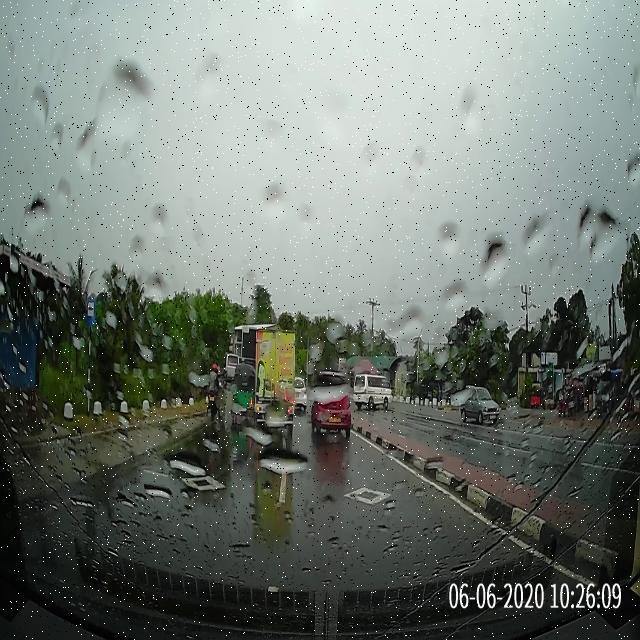diamond: (277, 482, 460, 513)
